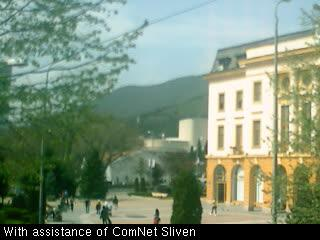person: (100, 202, 113, 224), (208, 197, 218, 217), (152, 208, 161, 224), (113, 195, 119, 214), (69, 195, 75, 212), (84, 197, 90, 213), (96, 199, 101, 214)
